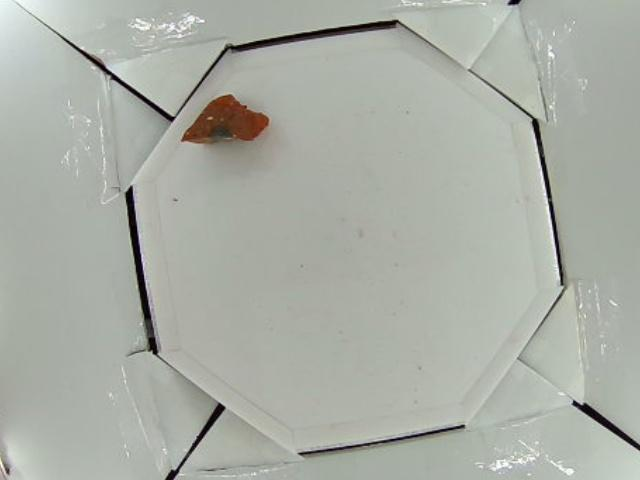Brisk: (179, 94, 271, 147)
